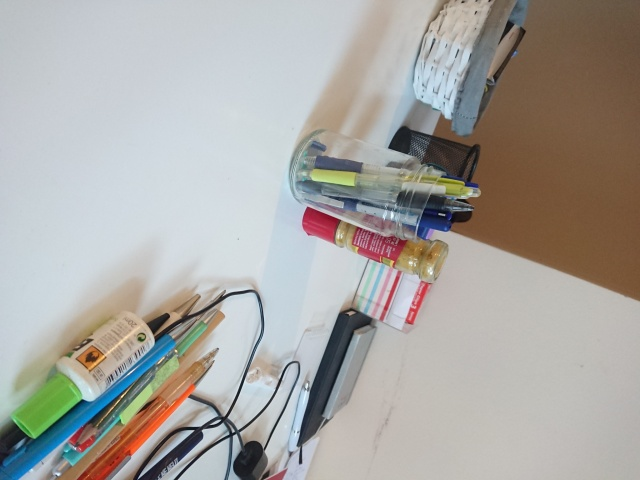Kotanyi Curry Spices Mix 70g: (300, 192, 451, 287)
